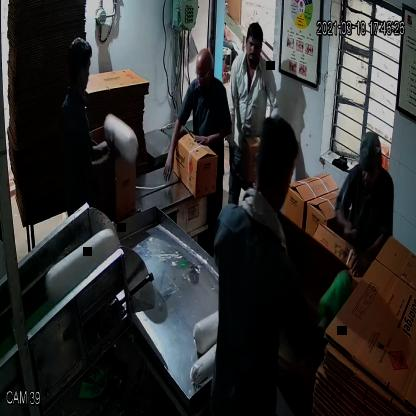glove: (313, 266, 357, 330)
no_glove: (346, 224, 394, 286), (80, 134, 128, 184), (159, 107, 183, 193), (190, 115, 230, 154)
